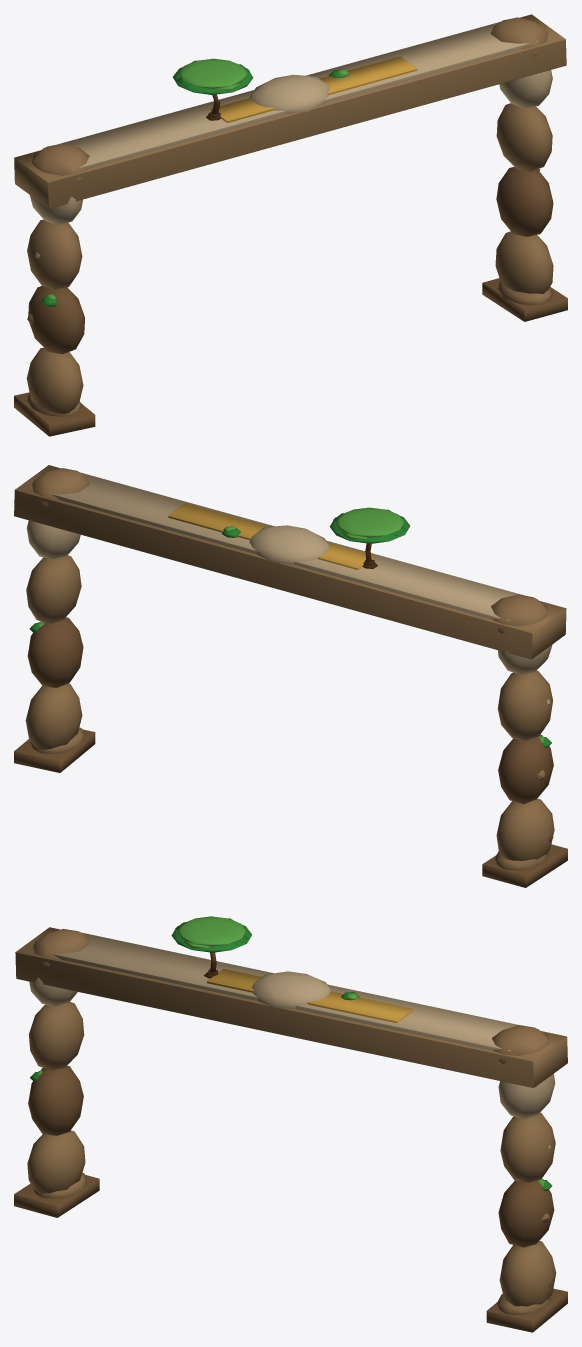
File: kopje_arch.glb
3 views of the same model, one above another, from view 1: azimuth 30°, elevation 25°; view 2: azimuth 150°, elevation 25°; view 3: azimuth 330°, elevation 25° (orthographic).
Visible parts, largest first — view 1: kopje_arch; view 2: kopje_arch; view 3: kopje_arch.
Boxes of the visible parts, left/top/right/bottom form: kopje_arch: left=14, top=14, right=567, bottom=436; kopje_arch: left=14, top=465, right=567, bottom=887; kopje_arch: left=14, top=916, right=567, bottom=1332.
Size of the model in its own units: 36.85 by 21.03 by 5.15.
